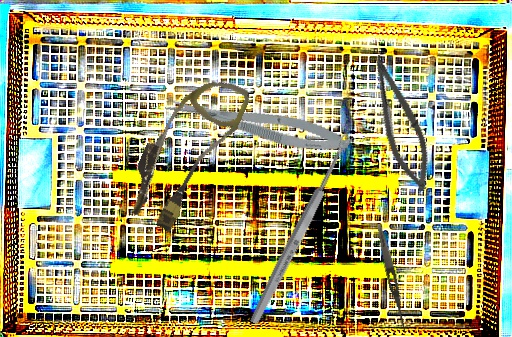Cannula: (118, 62, 253, 240)
Dressing Forceps: (373, 222, 412, 336)
Micro Scissor: (163, 85, 352, 161), (356, 50, 443, 196)
Surgical Spoon: (247, 133, 355, 326)
